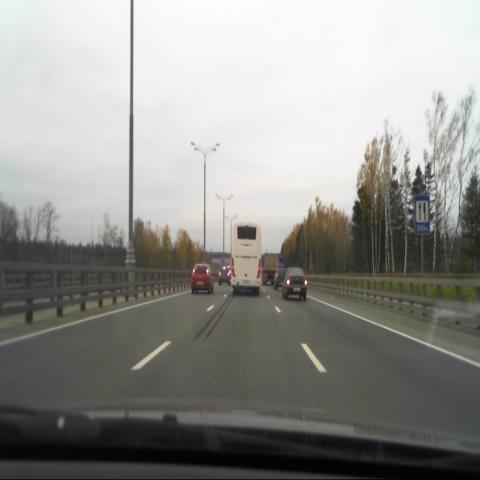7_7: (415, 198, 431, 234)
